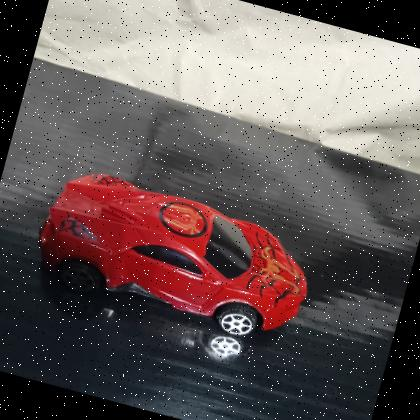Car: (18, 152, 328, 360)
